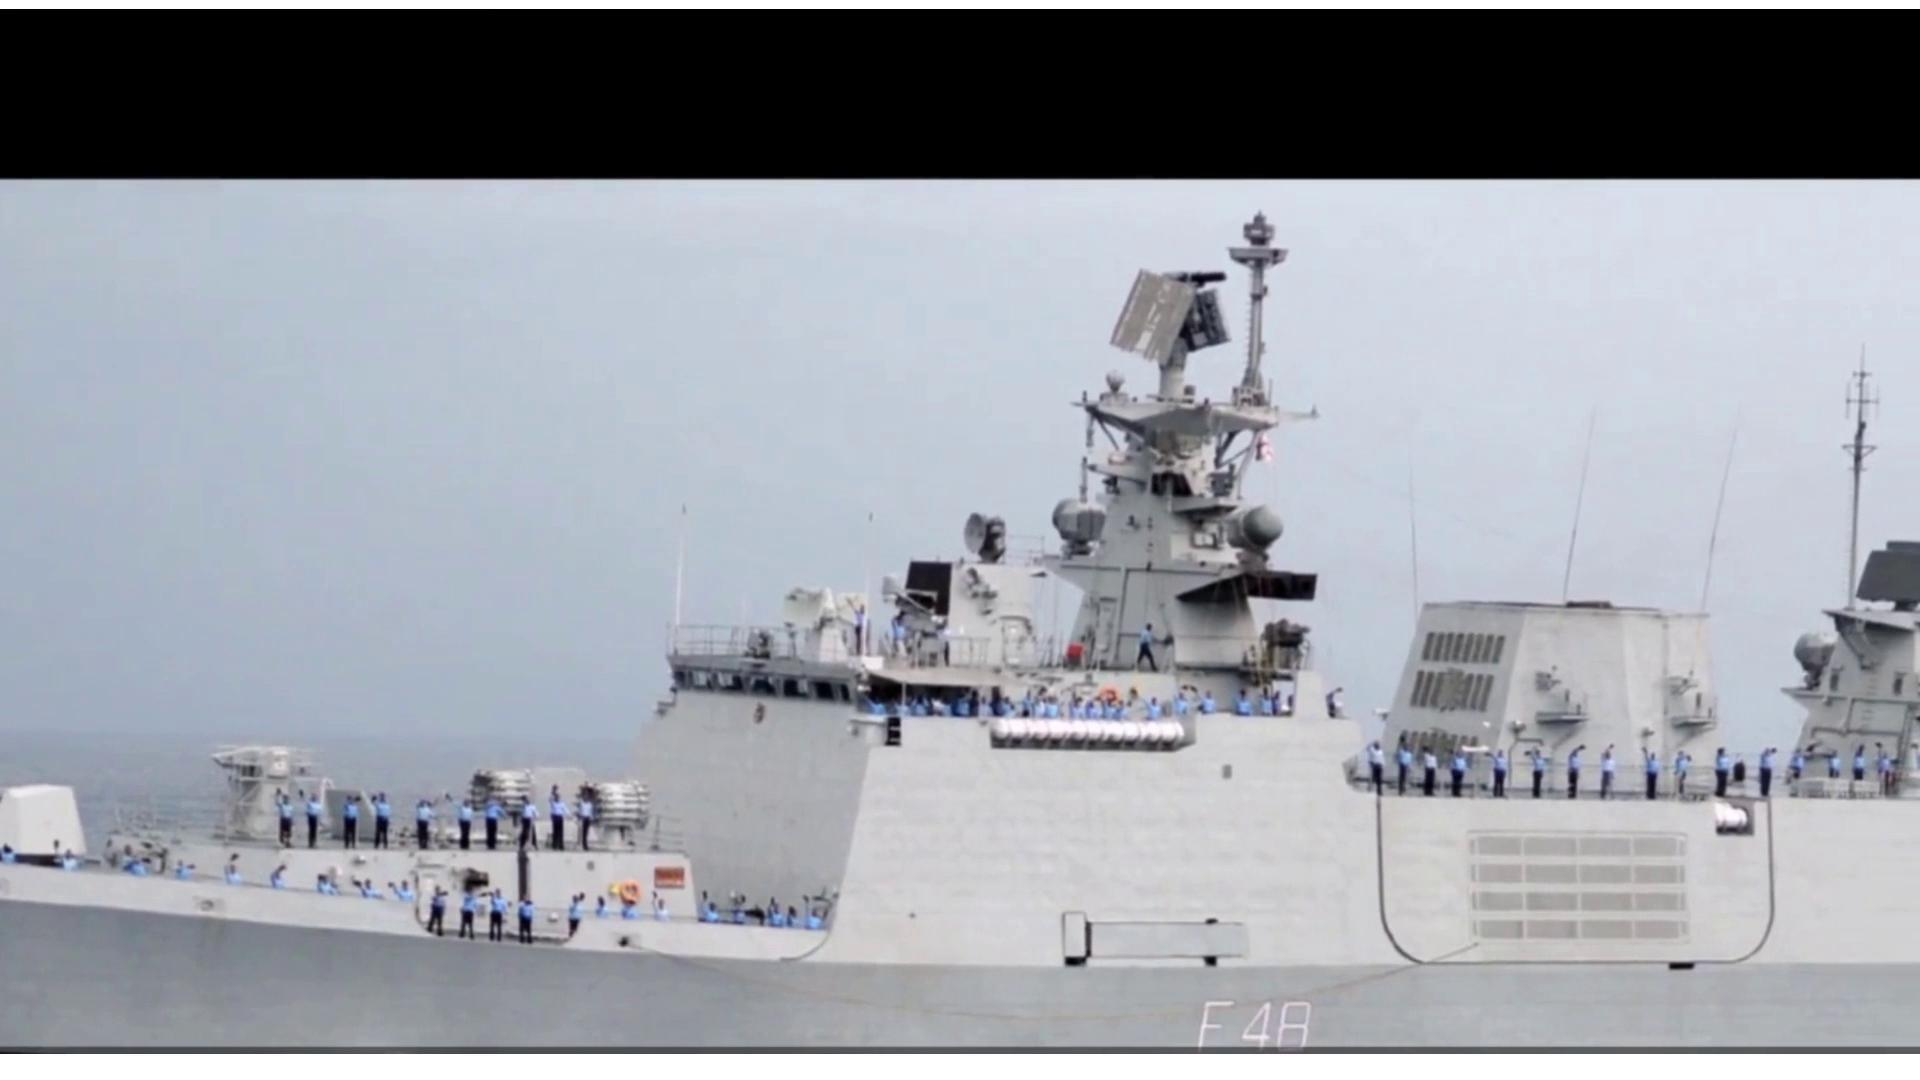OCR: (1187, 989, 1345, 1051)
